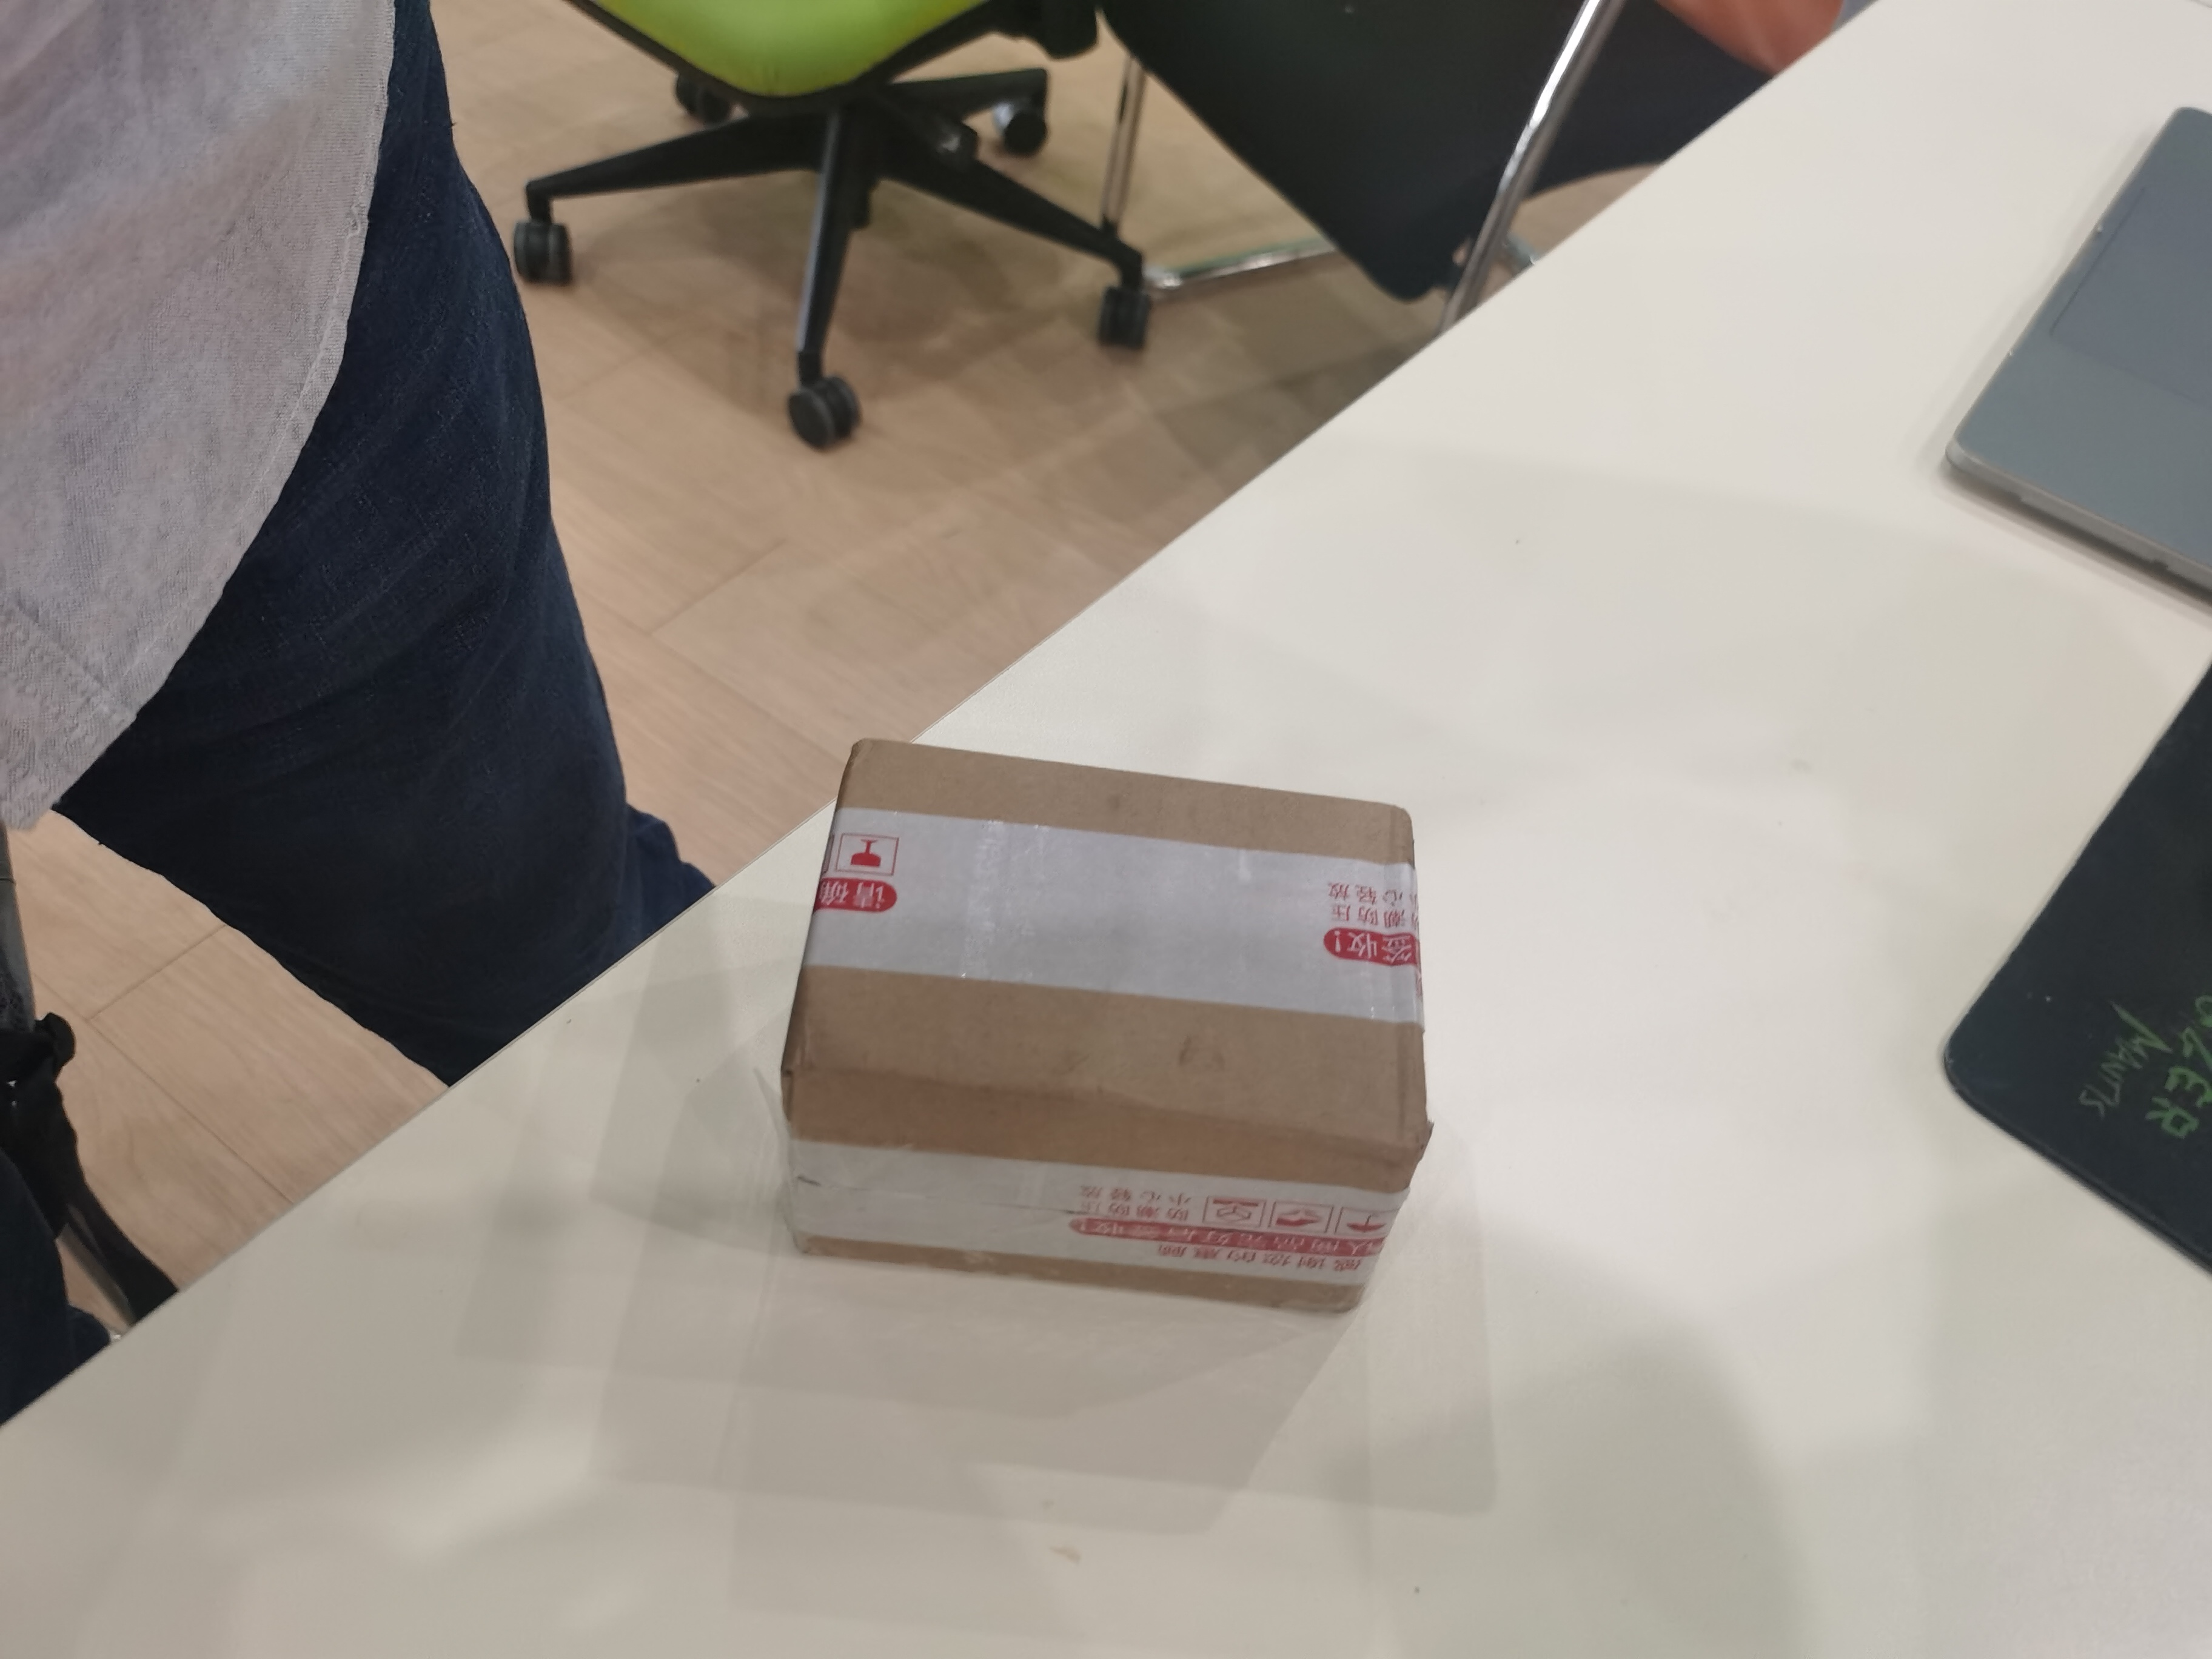box: (779, 737, 1435, 1330)
